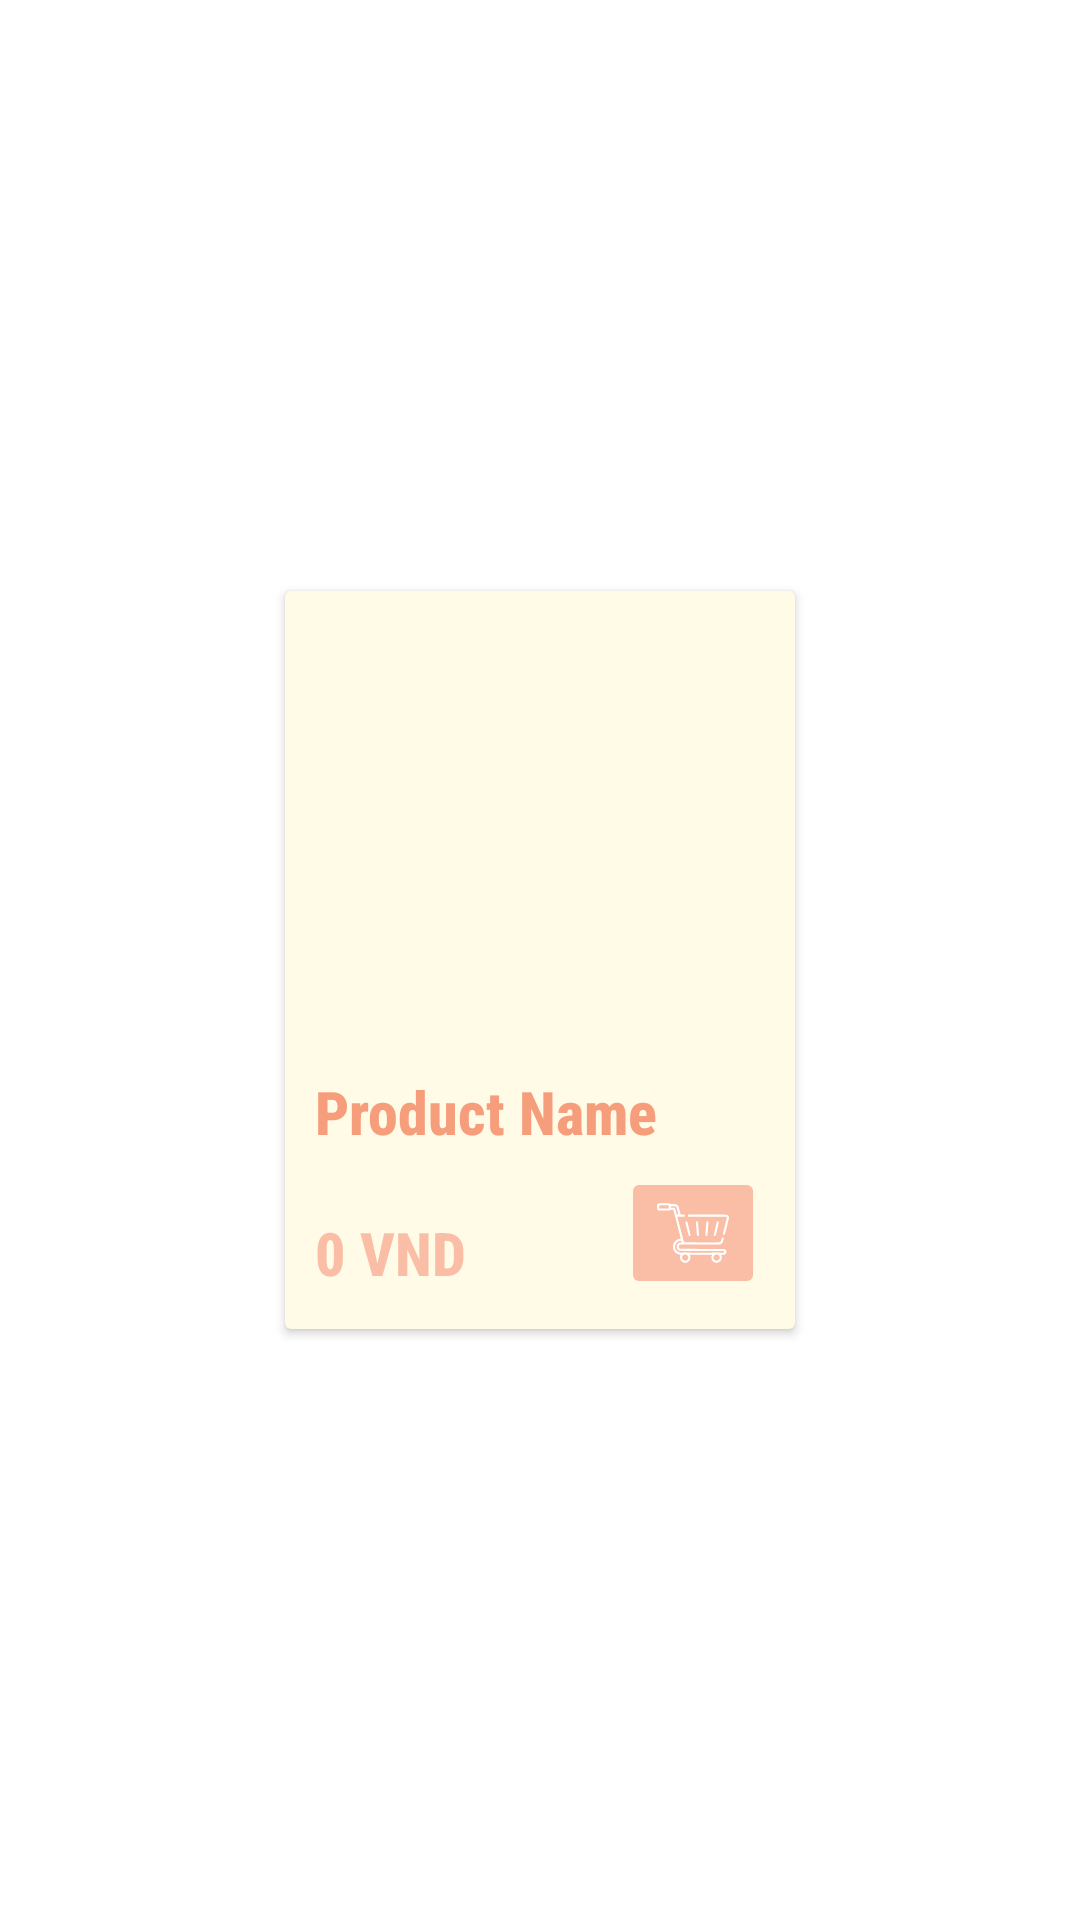

Screen size 1080*1920. Icon name, then its center in pixels as (x=x, y=y):
Cart: (x=693, y=1233)
